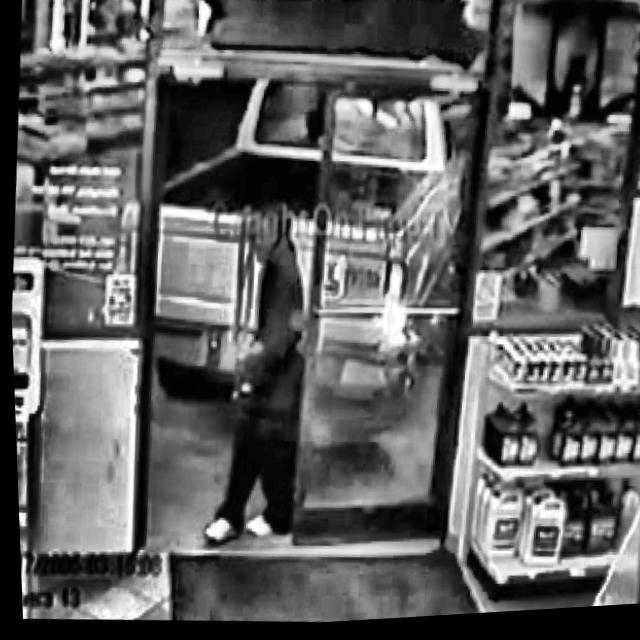burglary: (123, 52, 494, 577)
